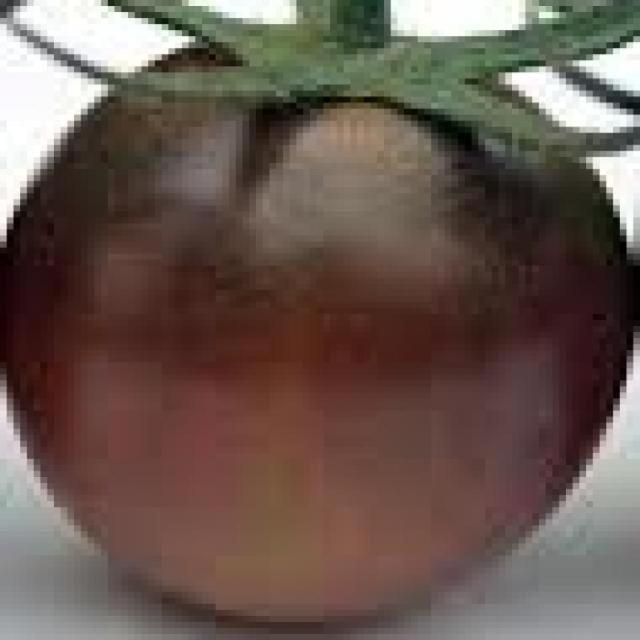Healthy Fruit: (5, 9, 427, 425)
